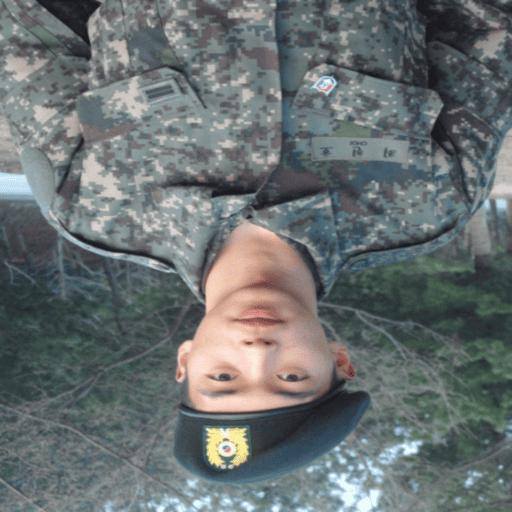korea army: (5, 2, 500, 297)
